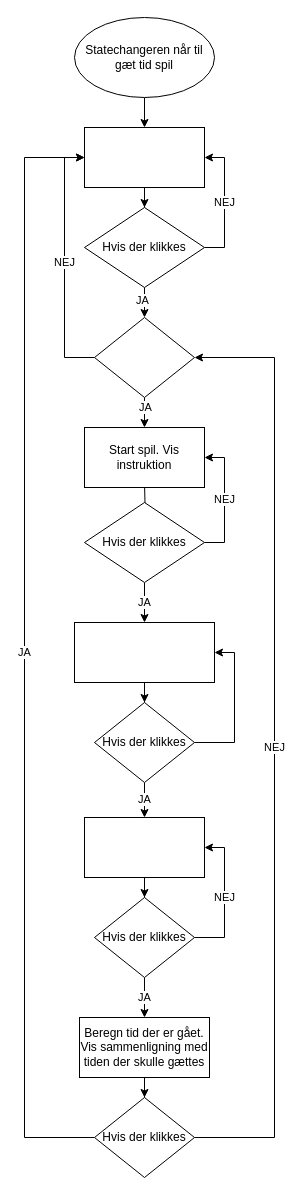
Some shapes in this 302 by 1195 pixel diagram are drawn without their labels. Here are the shapes that lost their labels. From the top down, the centre of each, then its label:
At point (144, 157): "Vis forsiden".
At point (144, 357): "Imens spillet kører".
At point (144, 652): "Vis tid man skal gætte Skriv: Tryk for at starte".
At point (144, 847): "Start tiden Vis: Tryk når tiden er gået".
